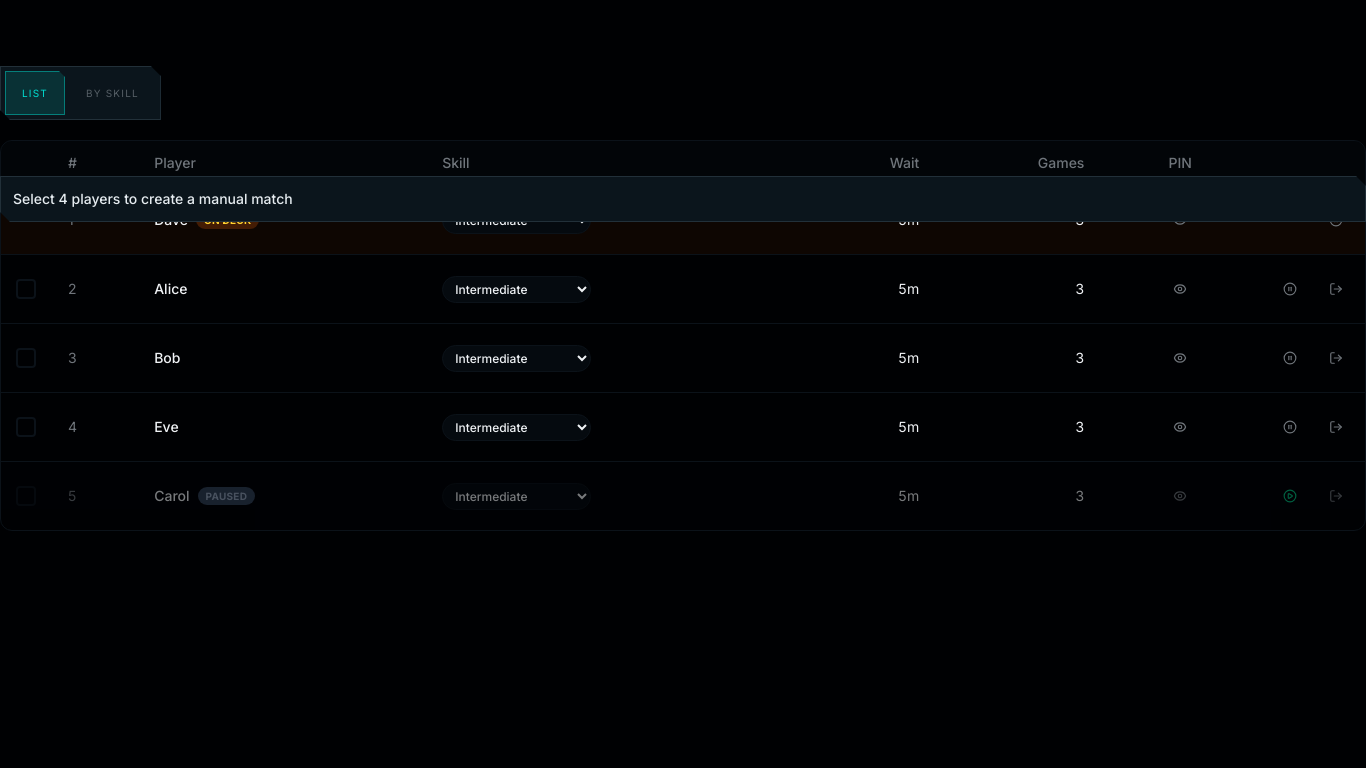
Scenario: QRP-C: the candidate pool is only what the organizer can tap › QRP-C1: paused and locked rows are never marked
The width and height of the screenshot is (1366, 768).
Expected: the text "Alice" is shown, 154,280 -> 188,297
Click the text "Alice".
click(683, 289)  # box 0,254 -> 1365,324
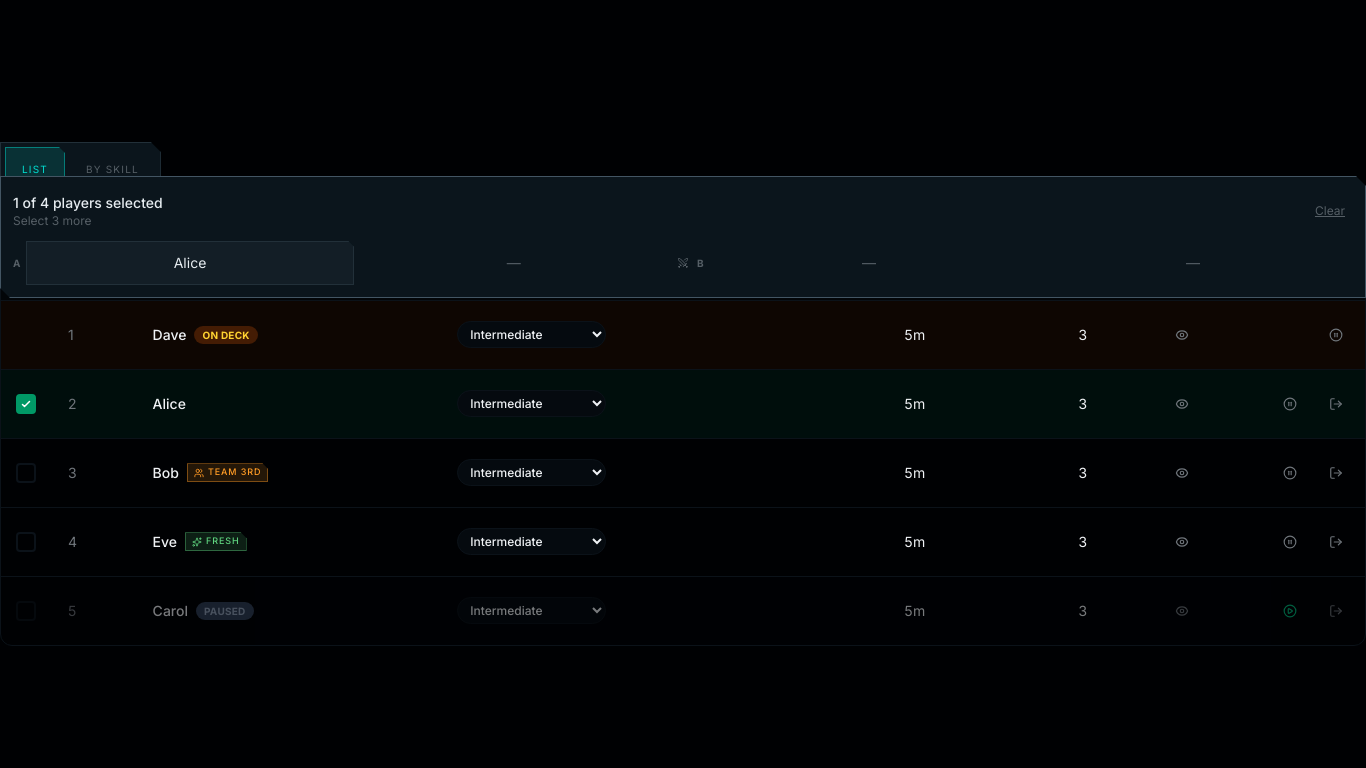
Expected: the text "Bob" is shown, 153,464 -> 179,481
Result: the number of elements with test id "repeat-marker" is 1 at 187,463 -> 268,482
